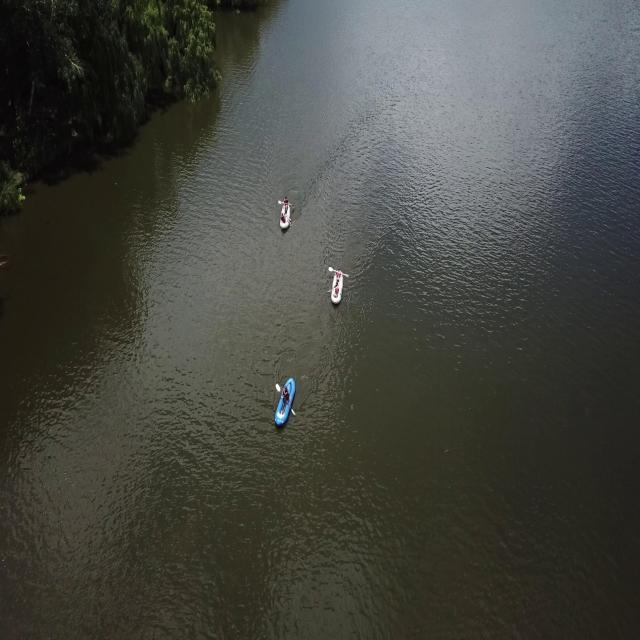kayak: (274, 376, 298, 426), (327, 265, 348, 306), (277, 196, 296, 232)
